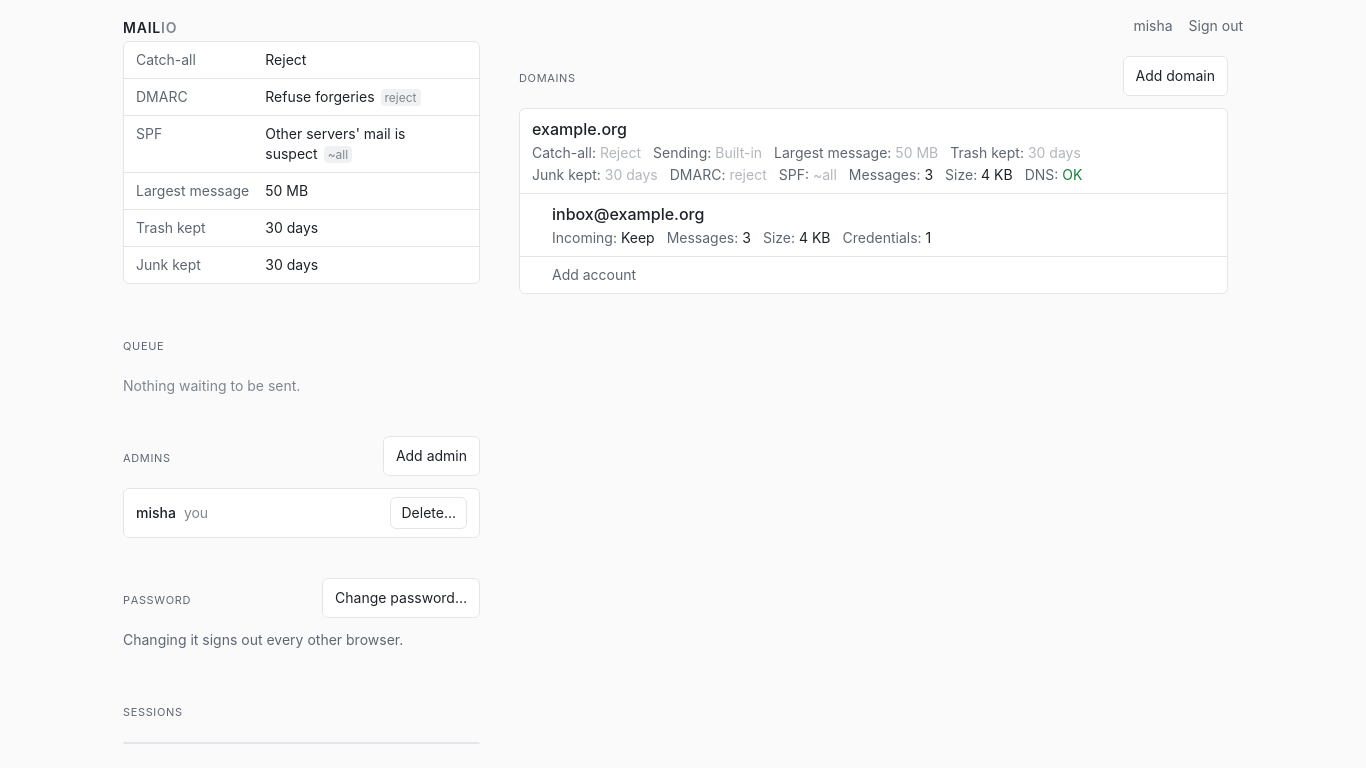
Test: an admin is added in a dialog with a name and a password
The image size is (1366, 768).
(page scrolled)
Click the button "Add admin".
click(431, 456)  # box 383,436 -> 480,476
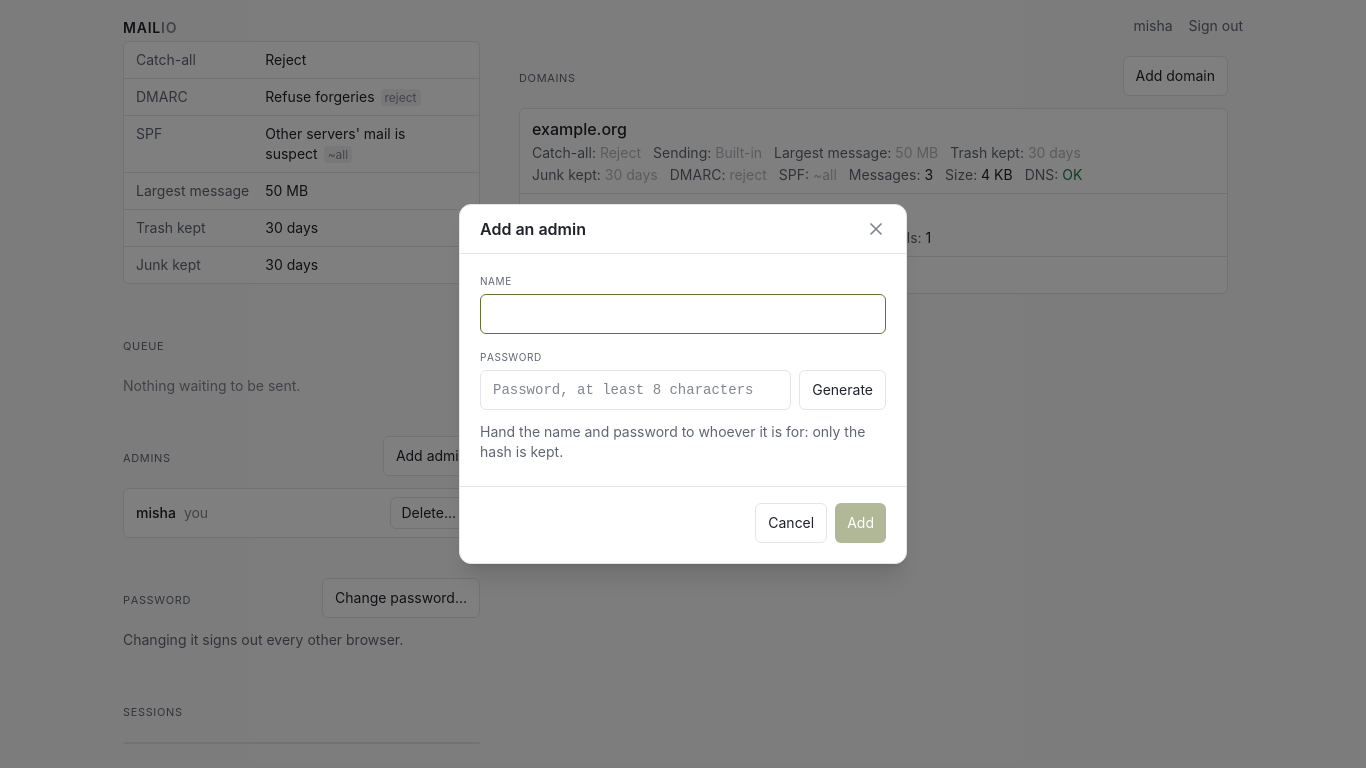
Type "anna" into the field labelled "Name".
click(683, 314); type("anna")  # box 480,294 -> 886,334
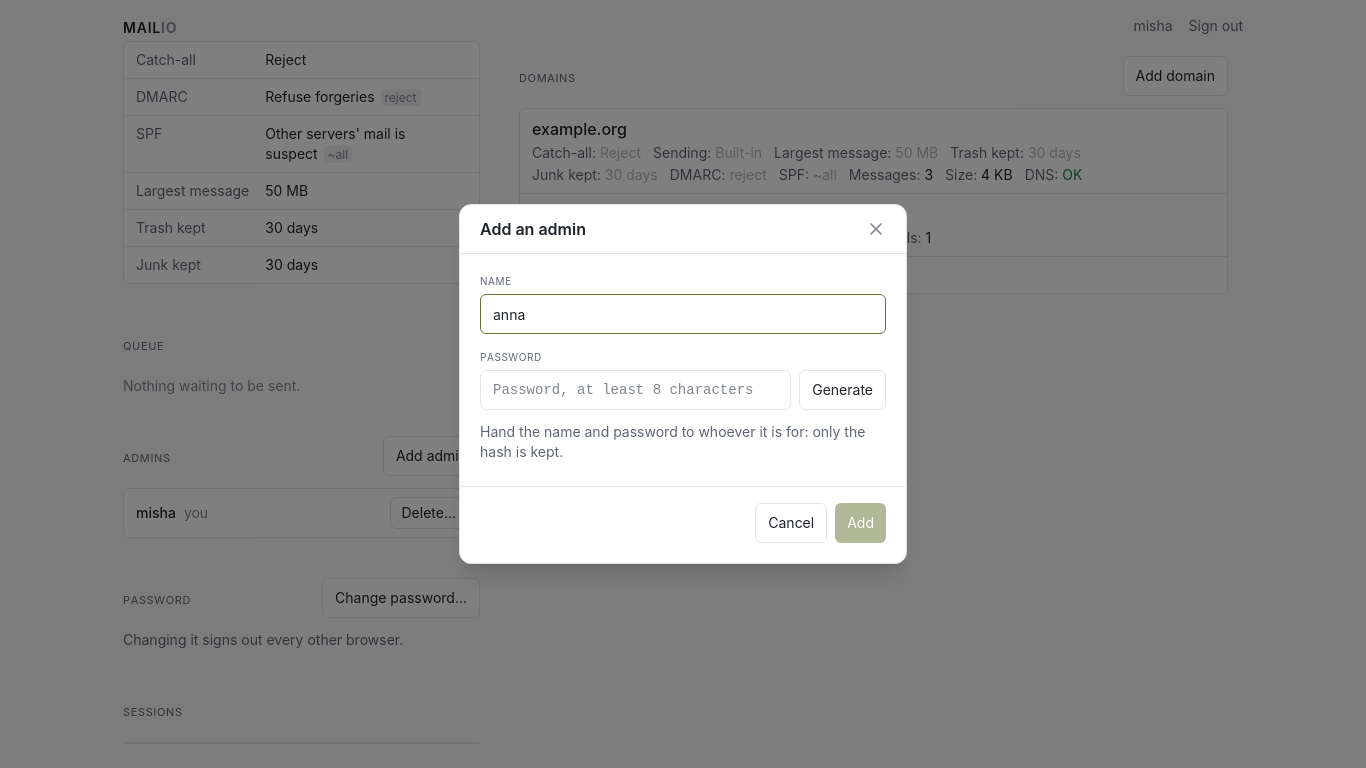
Type "long enough" into the field labelled "Password".
click(636, 390); type("long enough")  # box 480,370 -> 791,410
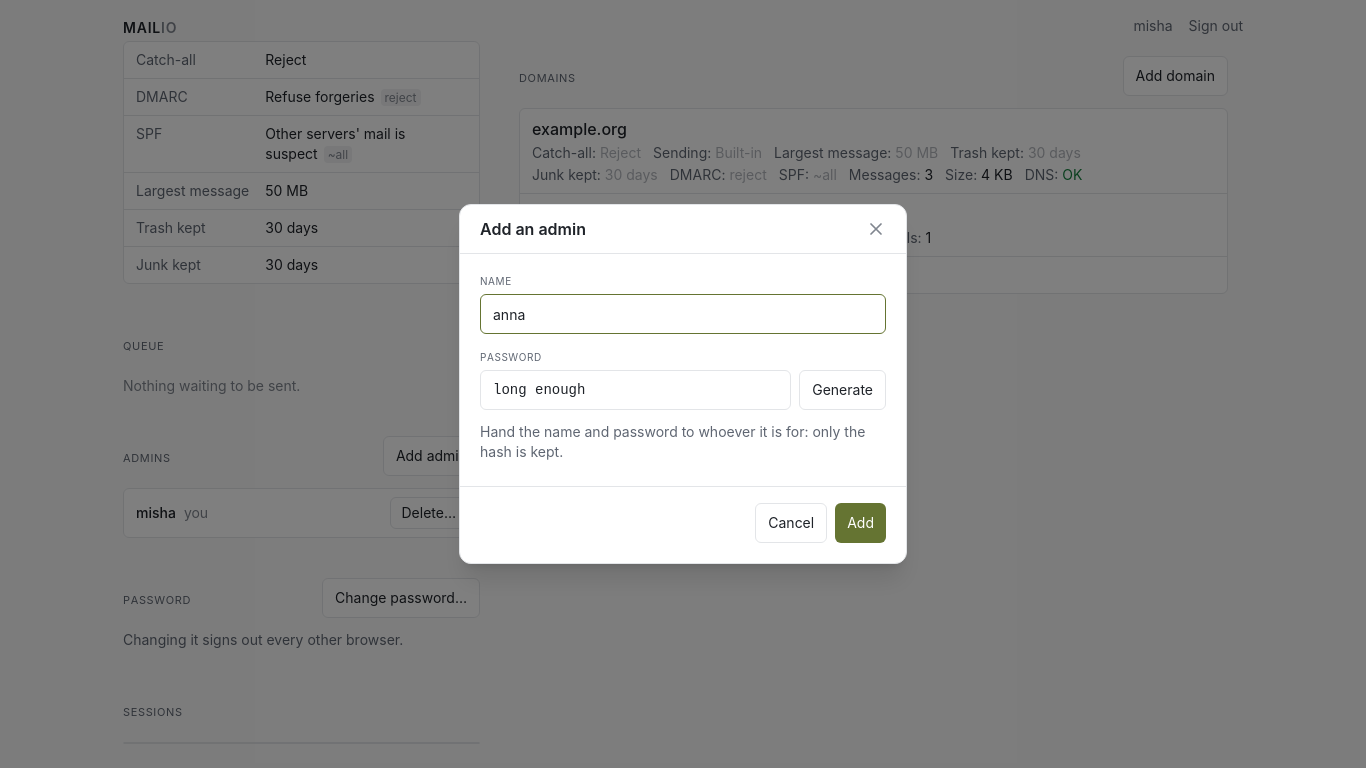
Click the button "Add".
click(861, 523)  # box 835,503 -> 886,543
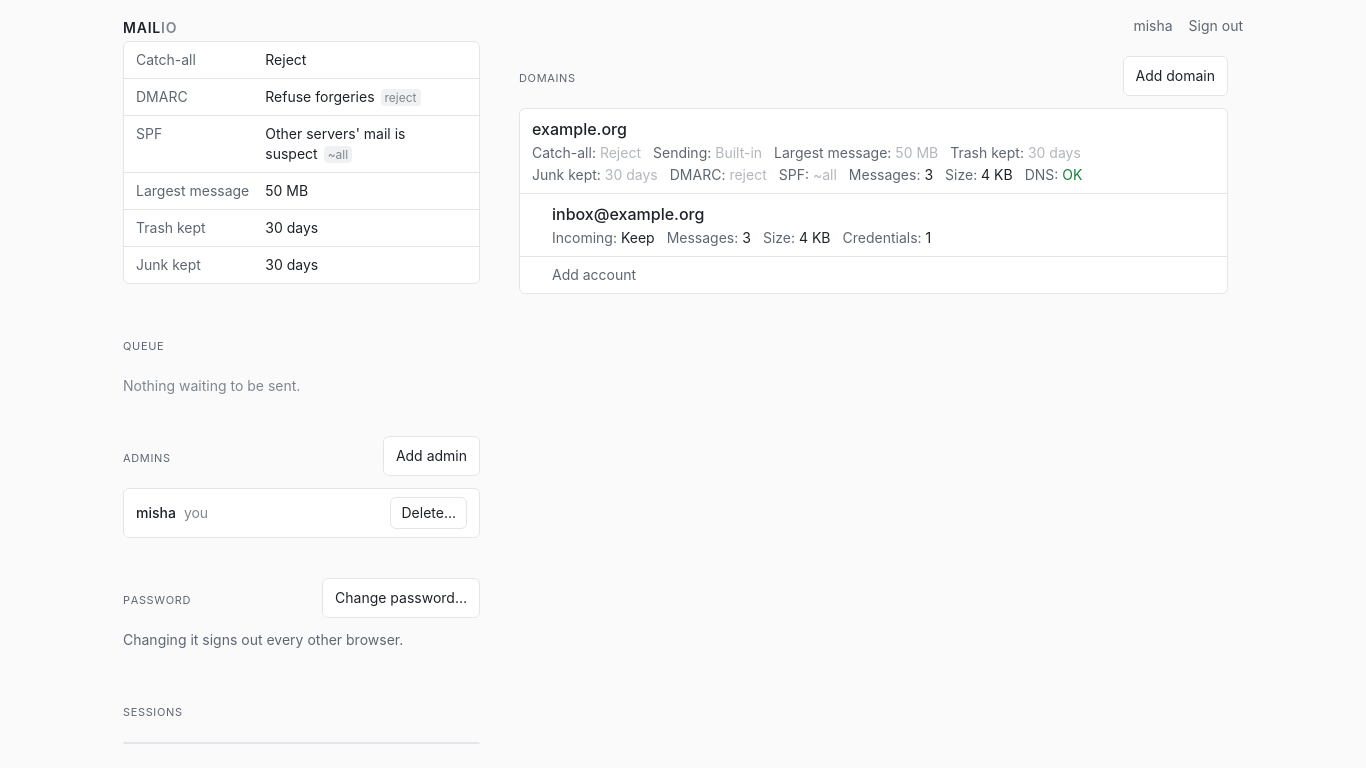
Expected: the heading "Add an admin" is gone
